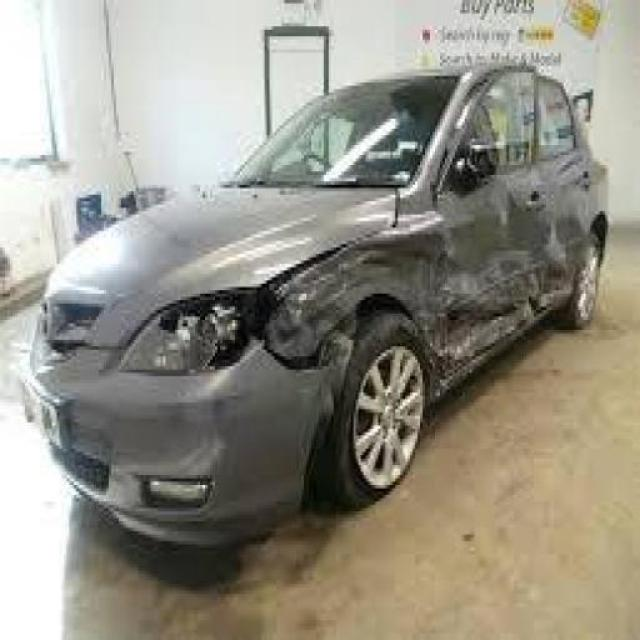crush: (175, 193, 614, 394)
shatter: (140, 295, 267, 371)
